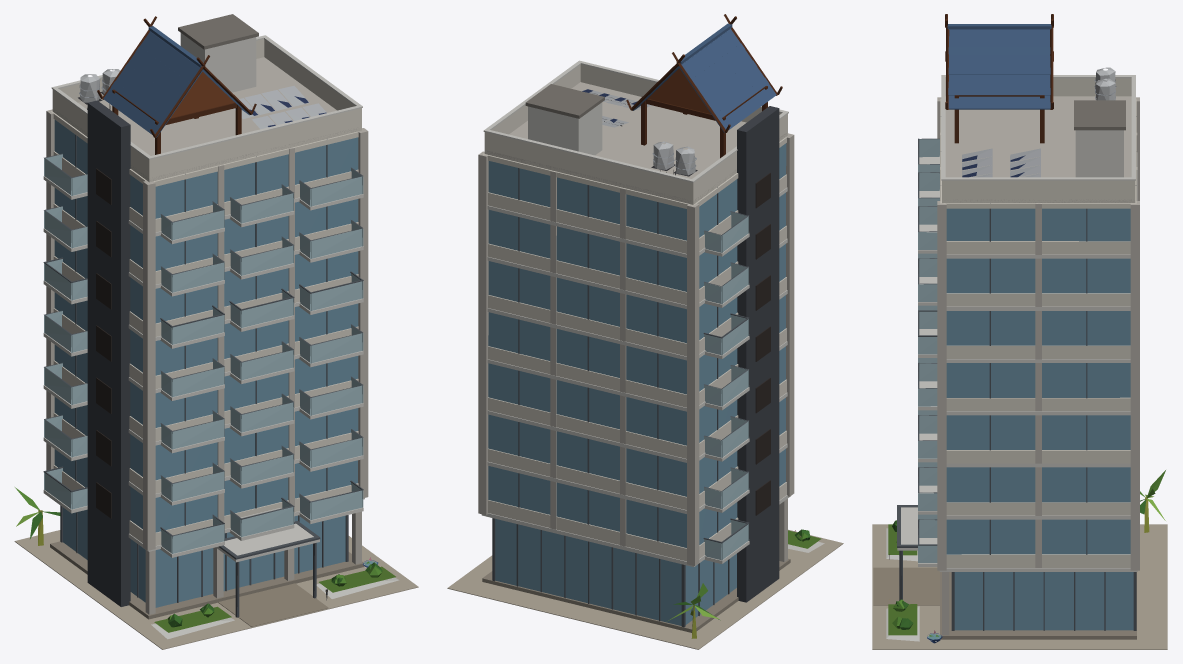
Rendered from home_4.glb.
3 renders of one model, left to right at view 1: azimuth 30°, elevation 25°; view 2: azimuth 150°, elevation 25°; view 3: azimuth 270°, elevation 25°, orthographic. The views are drawn at different scales.
Visible parts, largest first — view 1: body, windows; view 2: body, windows; view 3: body.
Part boxes in pixels (x1,y1,x2,y2): body: (14,14,418,649); windows: (96,168,326,591); body: (447,14,843,649); windows: (755,172,770,515); body: (872,14,1167,649).
Size of the model in its own units: 16.54 by 32.48 by 15.95.
